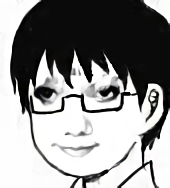dragon: (34, 81, 123, 157)
